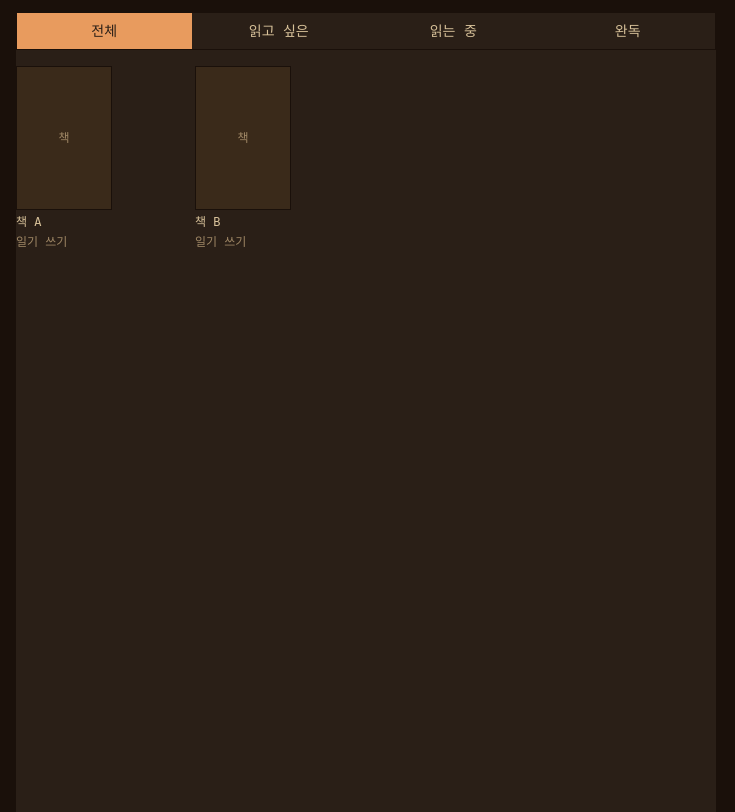
Test: BookGrid › '완독' 탭 클릭 시 finished 상태인 책만 노출한다
The width and height of the screenshot is (735, 812).
Click the tab "완독". click: (628, 31)
box: [540, 13, 715, 49]
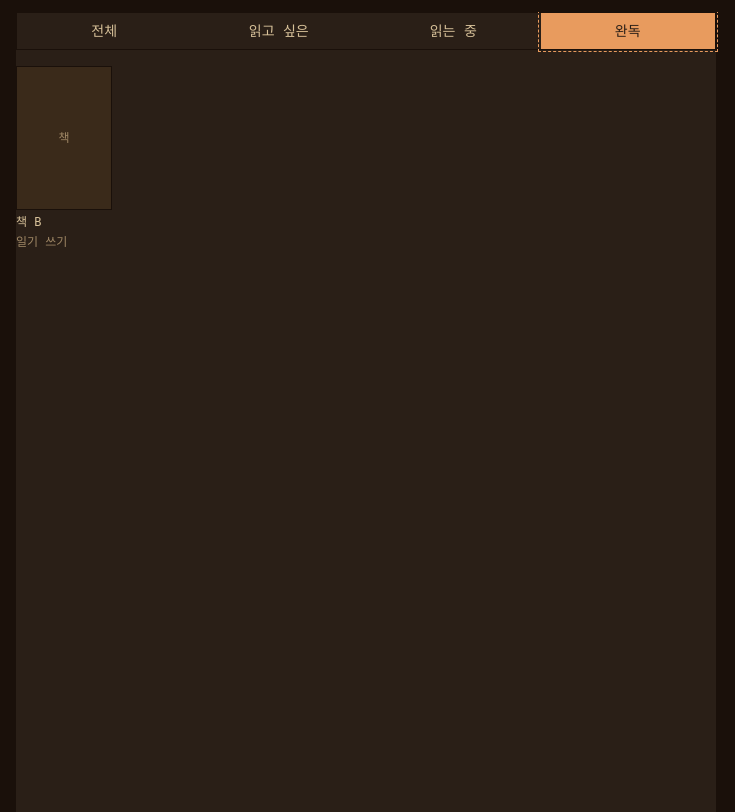
Expected: the text "책 B" is shown, [16, 215, 42, 229]
Expected: the link "책 A" is gone
